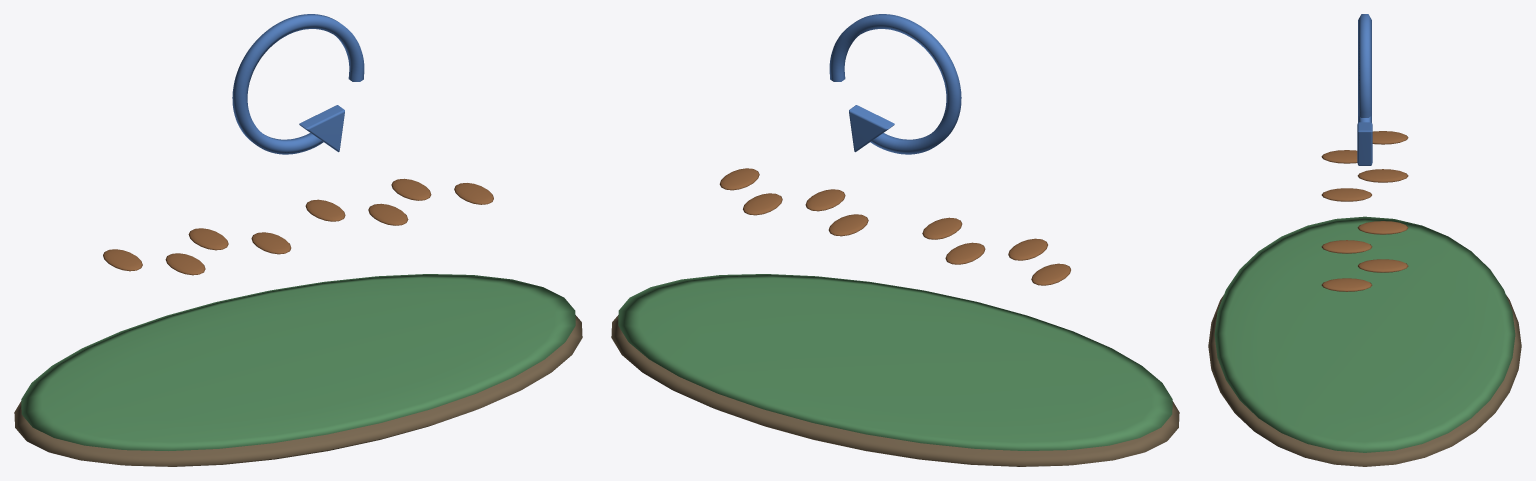
Rendered from complete-second-following-arrival-always.glb.
3 views of the same model, side by side, from view 1: azimuth 30°, elevation 25°; view 2: azimuth 150°, elevation 25°; view 3: azimuth 270°, elevation 25° (orthographic). The views are drawn at different scales.
Visible parts, largest first — view 1: complete-second-following-arrival-always_surface_01, complete-second-following-arrival-always_surface_00, complete-second-following-arrival-always_surface_03, complete-second-following-arrival-always_surface_02; view 2: complete-second-following-arrival-always_surface_01, complete-second-following-arrival-always_surface_00, complete-second-following-arrival-always_surface_03, complete-second-following-arrival-always_surface_02; view 3: complete-second-following-arrival-always_surface_01, complete-second-following-arrival-always_surface_00, complete-second-following-arrival-always_surface_02, complete-second-following-arrival-always_surface_03.
Part boxes in pixels (left/top/right/bottom): complete-second-following-arrival-always_surface_01: left=21, top=274, right=575, bottom=450; complete-second-following-arrival-always_surface_00: left=14, top=315, right=582, bottom=466; complete-second-following-arrival-always_surface_03: left=232, top=14, right=364, bottom=154; complete-second-following-arrival-always_surface_02: left=103, top=178, right=493, bottom=275; complete-second-following-arrival-always_surface_01: left=618, top=274, right=1172, bottom=450; complete-second-following-arrival-always_surface_00: left=611, top=315, right=1179, bottom=466; complete-second-following-arrival-always_surface_03: left=829, top=14, right=961, bottom=154; complete-second-following-arrival-always_surface_02: left=719, top=168, right=1070, bottom=285; complete-second-following-arrival-always_surface_01: left=1214, top=216, right=1515, bottom=452; complete-second-following-arrival-always_surface_00: left=1208, top=295, right=1521, bottom=466; complete-second-following-arrival-always_surface_02: left=1321, top=131, right=1408, bottom=291; complete-second-following-arrival-always_surface_03: left=1357, top=14, right=1372, bottom=165.
Size of the model in its own units: 4.56 by 3 by 2.5.
